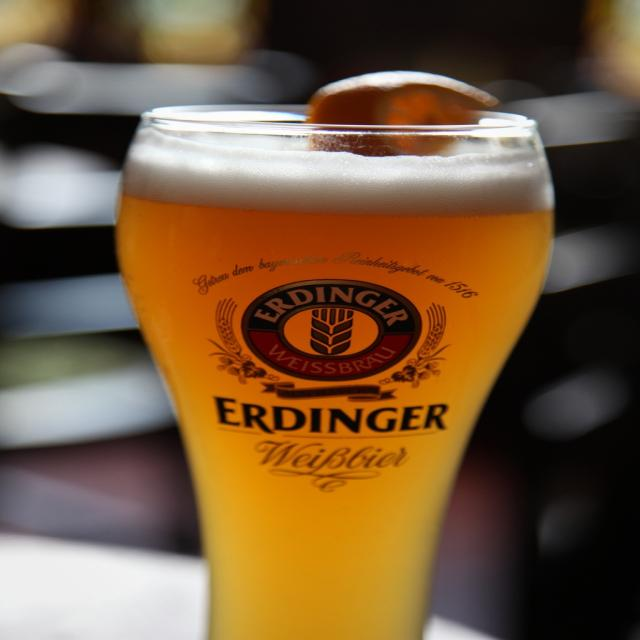erdinger: (186, 251, 485, 439)
